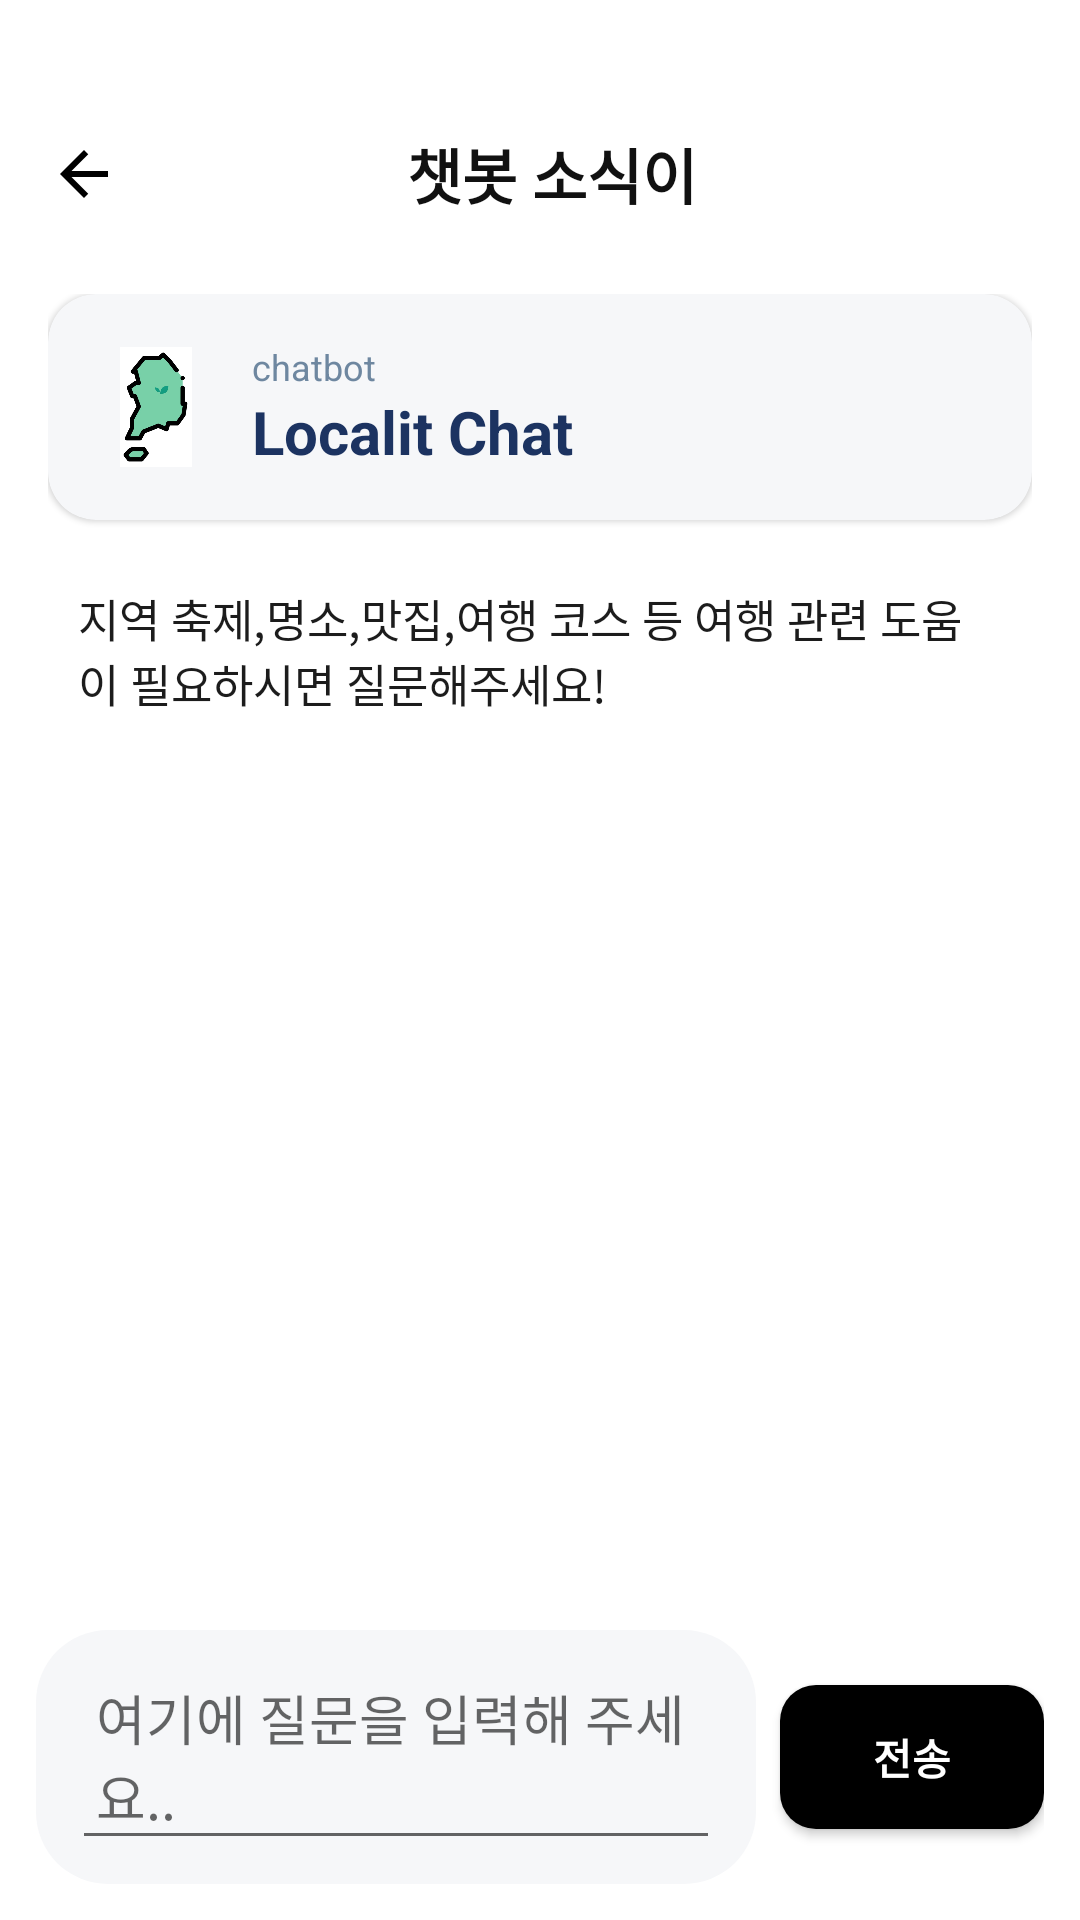

Icons on this 1080*1920 Android screen, each with the point to tap as (x,y):
arrow back: (84,174)
